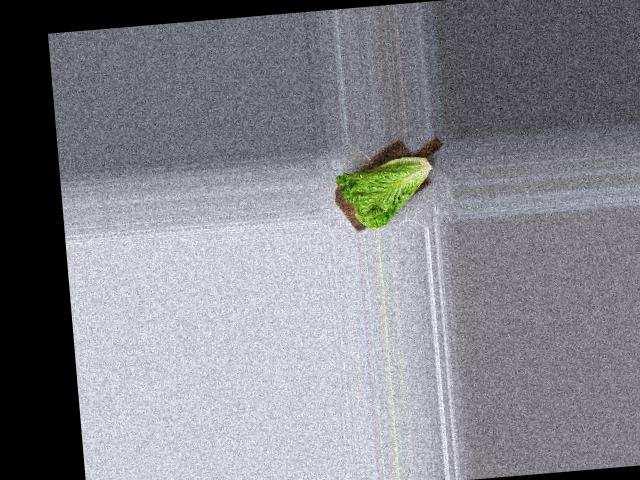lettuce: (334, 144, 440, 231)
